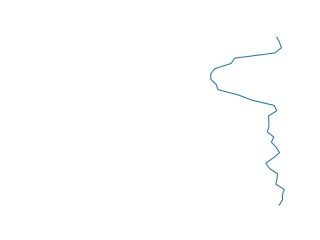distalBar: (205, 36, 291, 205)
